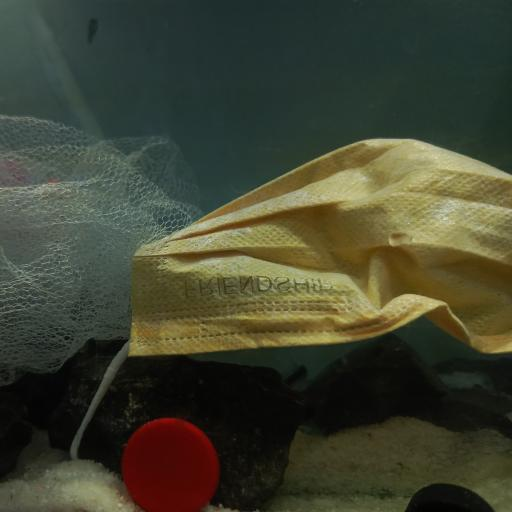bottle_cap: (120, 415, 221, 512)
mask: (113, 135, 512, 369)
net: (0, 109, 201, 385)
